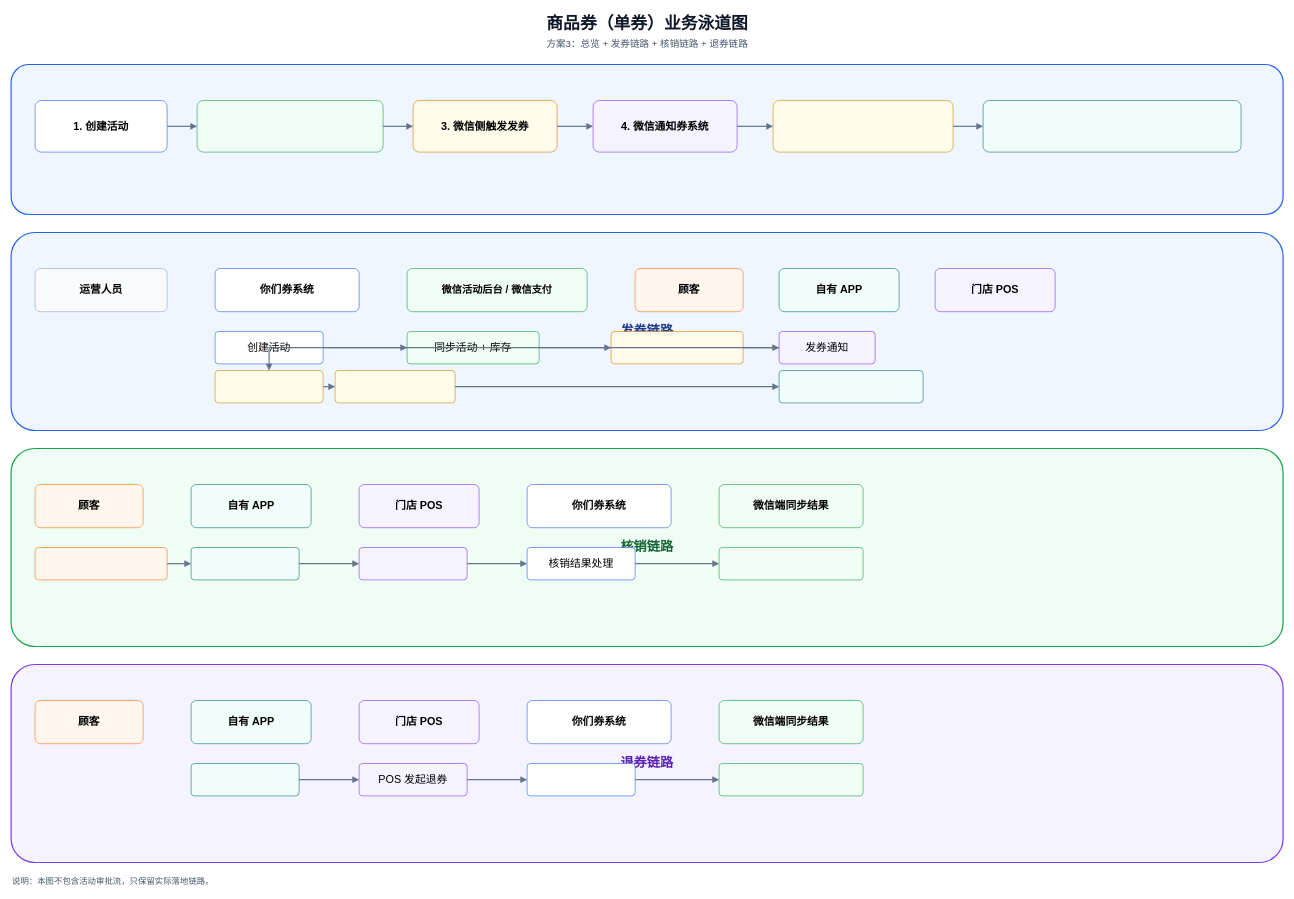
Some shapes in this 1294 by 899 pixel diagram are drawn without their labels. The shapes that lost their labels are listed below. From the top down, each one's centre as x and y in pixels, then its label:
At point 289,126: "2. 同步活动 + 券码库存到微信".
At point 862,126: "5. 直接确认成功 + 绑定券码".
At point 1111,126: "6. 微信 / APP 查看券码，APP / POS 发起核销、退券".
At point 676,347: "支付后触发发券".
At point 268,386: "直接确认成功".
At point 394,386: "绑定券码到顾客".
At point 850,386: "微信 / APP 查看券码".
At point 100,563: "微信 / APP 出示券码".
At point 244,563: "APP 发起核销".
At point 412,563: "POS 扫码核销".
At point 790,563: "同步核销结果给微信".
At point 244,779: "APP 发起退券".
At point 580,779: "退券结果处理".
At point 790,779: "同步退券结果给微信".
